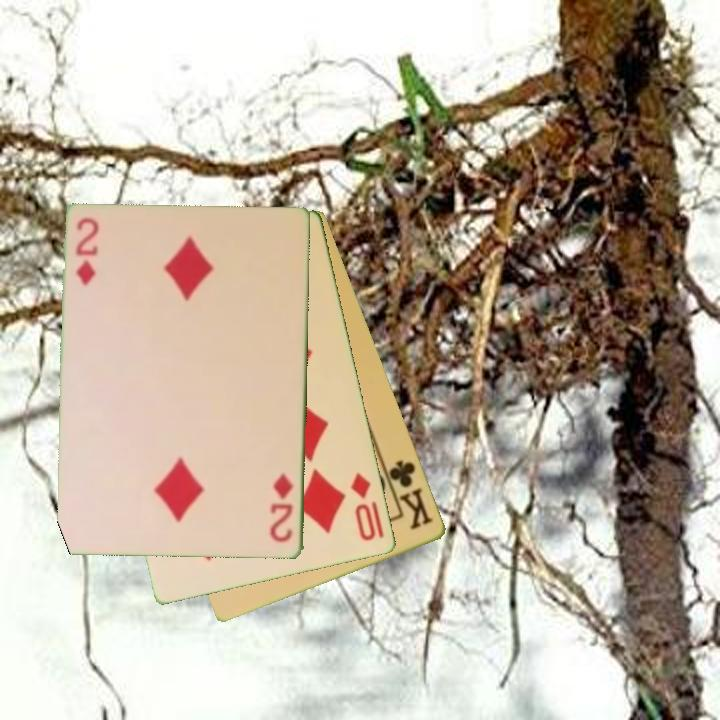10d: (347, 469, 379, 544)
2d: (267, 469, 296, 545), (73, 215, 101, 289)
Kc: (380, 456, 436, 533)
